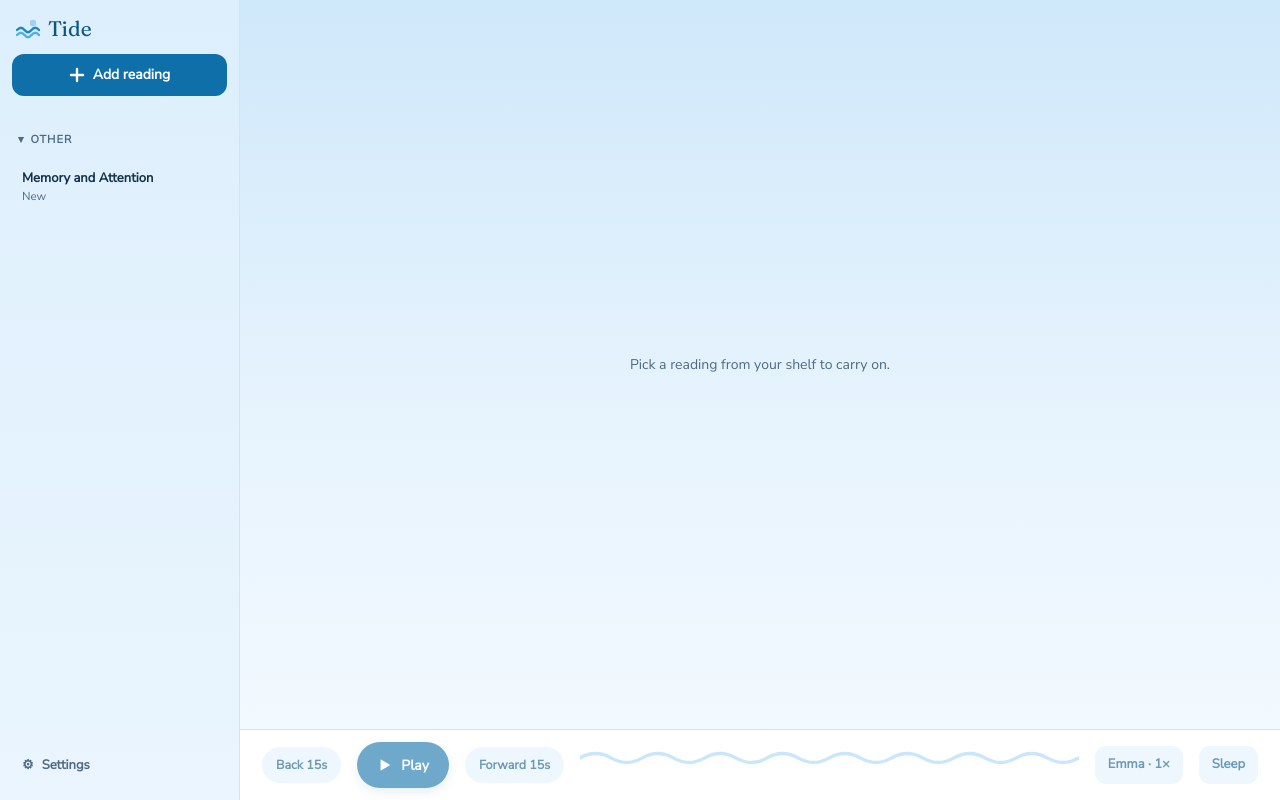
Test: Reader open states › a locked PDF asks for the password; a wrong one says so, the right one opens
The image size is (1280, 800).
Click the button "Memory and Attention New". click: x=120, y=187
box: top-left (12, 162), bottom-right (227, 212)
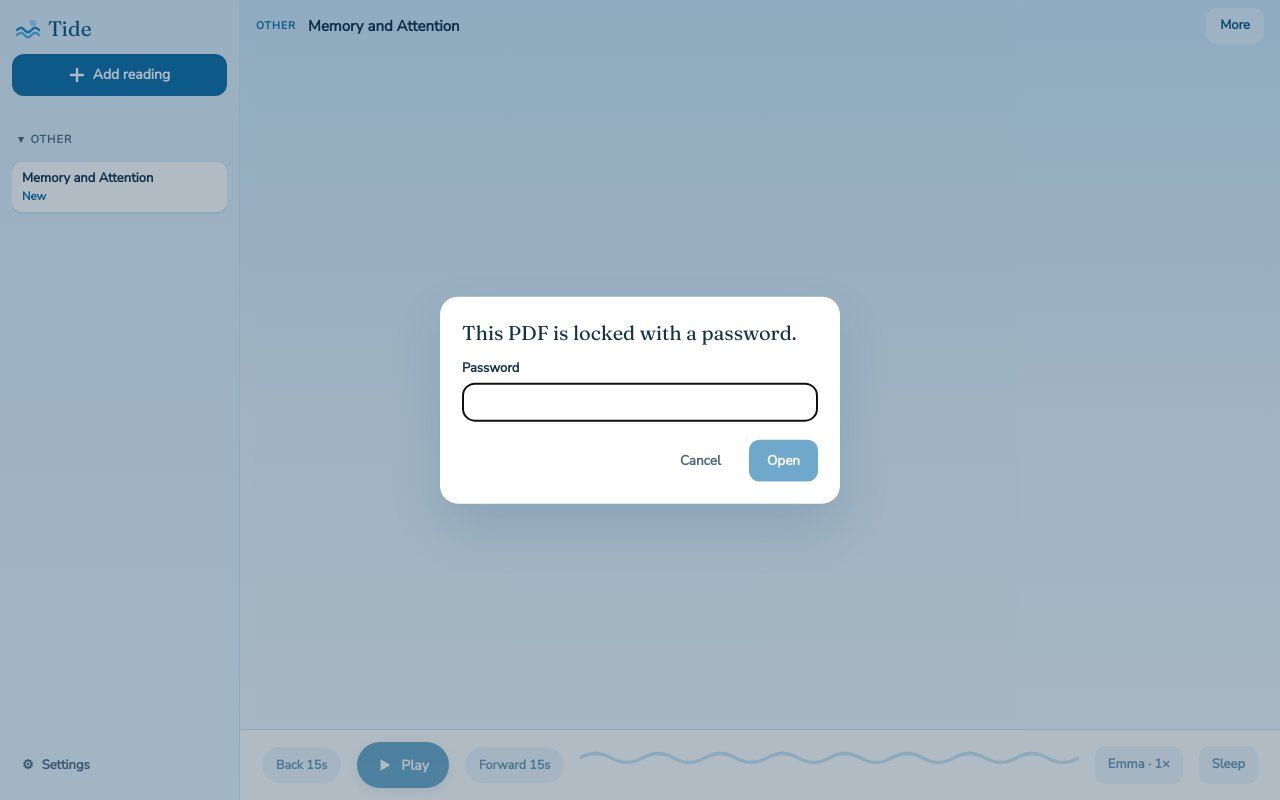
Type "nope" into the password field labelled "Password". click: x=640, y=402
box: top-left (462, 382), bottom-right (818, 421)
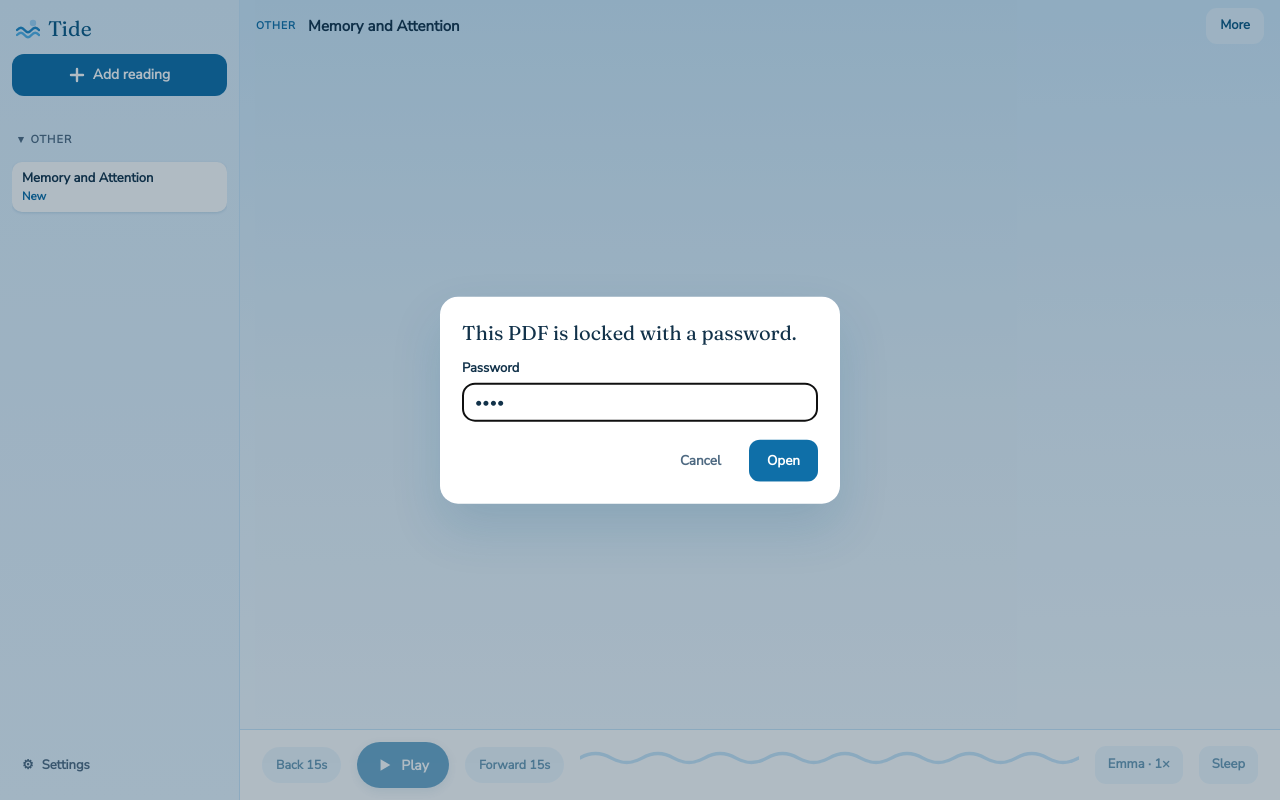
Click the button "Open". click: x=783, y=460
box: top-left (749, 439), bottom-right (818, 481)
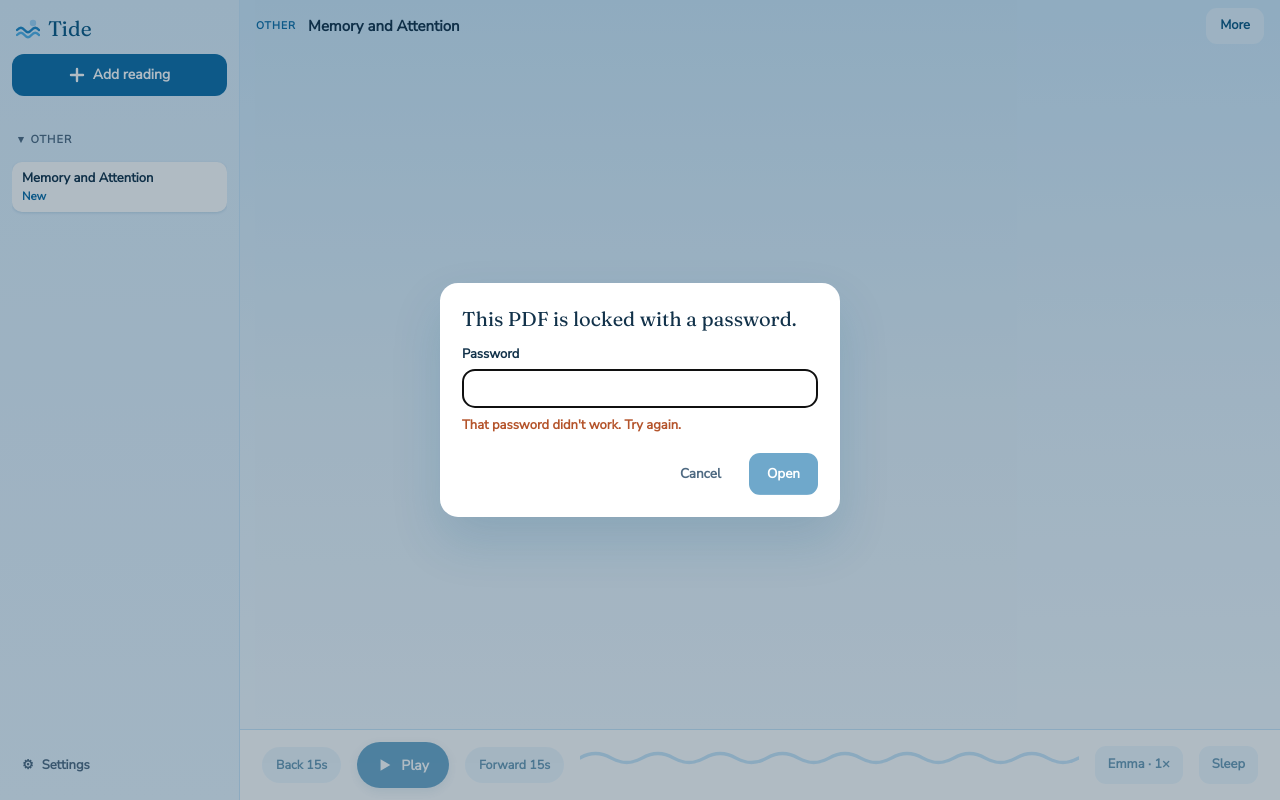
Check: the text "That password didn't work. Try again." is shown, box top-left (462, 415), bottom-right (681, 433)
Check: the password field labelled "Password" is empty
Type "tide" into the password field labelled "Password". click: x=640, y=388
box: top-left (462, 368), bottom-right (818, 407)
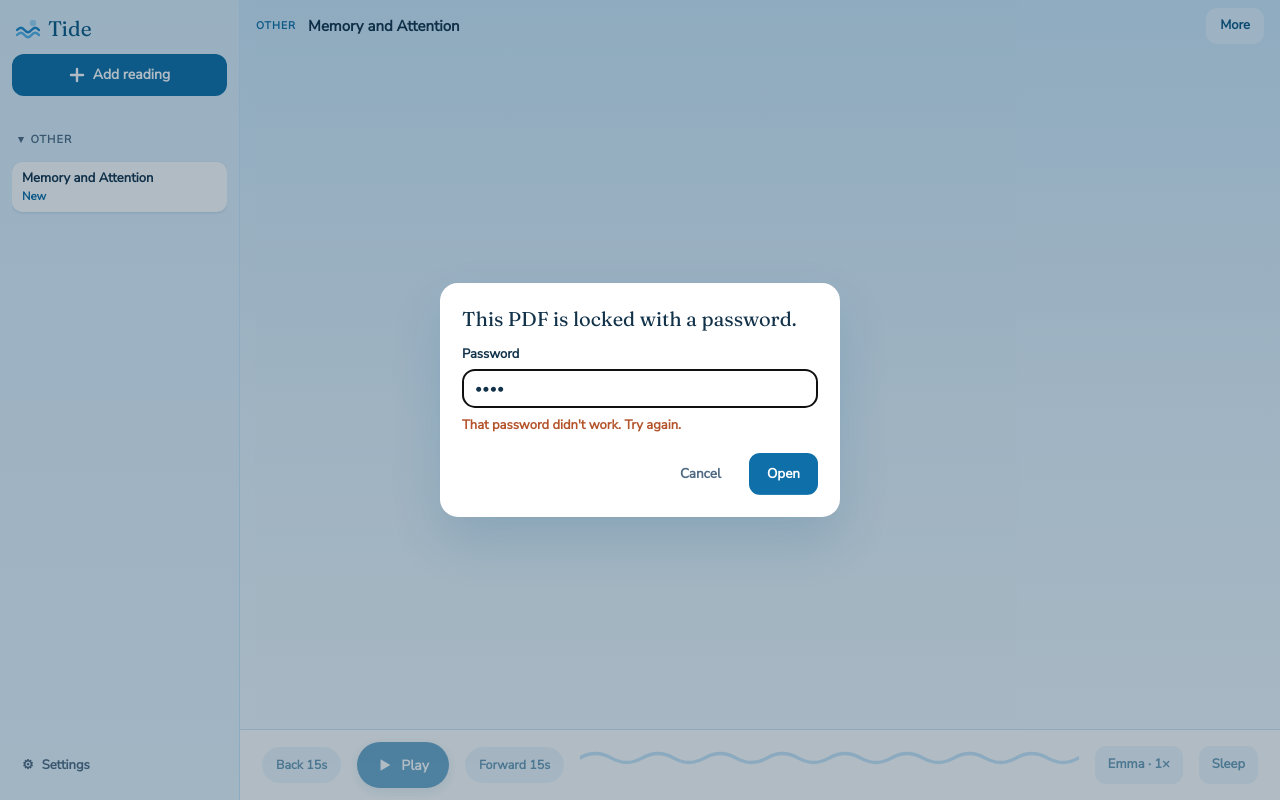
Click the button "Open". click: x=783, y=474
box: top-left (749, 453), bottom-right (818, 495)
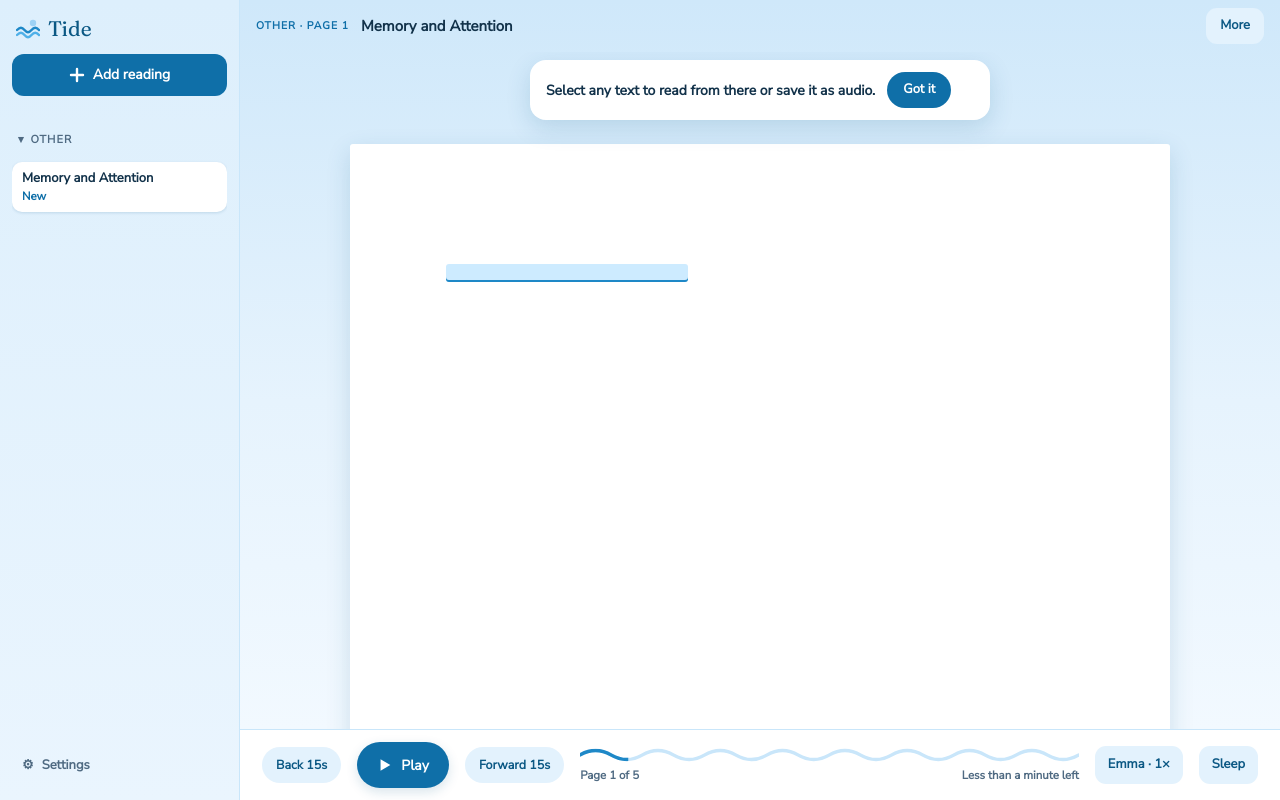
Check: the dialog is gone
